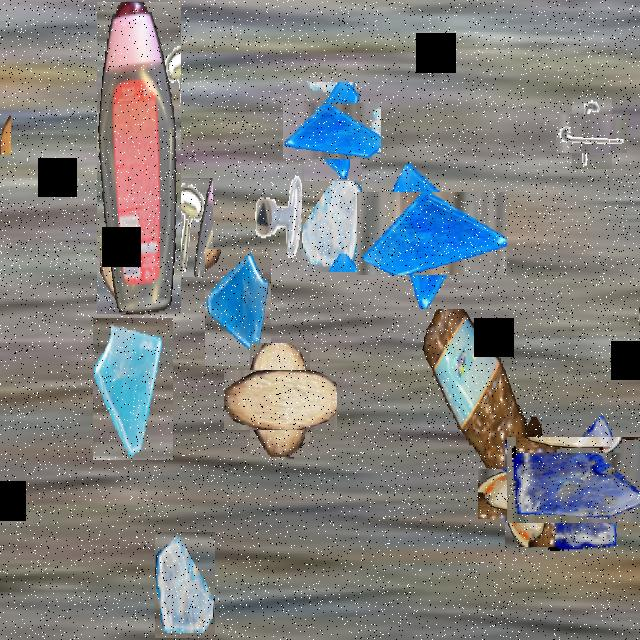glass: (522, 420, 640, 539), (374, 175, 491, 291), (93, 318, 173, 461), (205, 249, 271, 366), (302, 165, 362, 272), (155, 532, 215, 638), (293, 93, 371, 170)
metal: (157, 178, 213, 277), (254, 172, 306, 265), (564, 106, 620, 161)
plastic: (97, 2, 181, 314), (420, 310, 544, 483), (491, 455, 569, 533), (639, 300, 640, 486)
wood: (236, 356, 324, 444), (100, 16, 174, 73), (0, 112, 11, 155)
